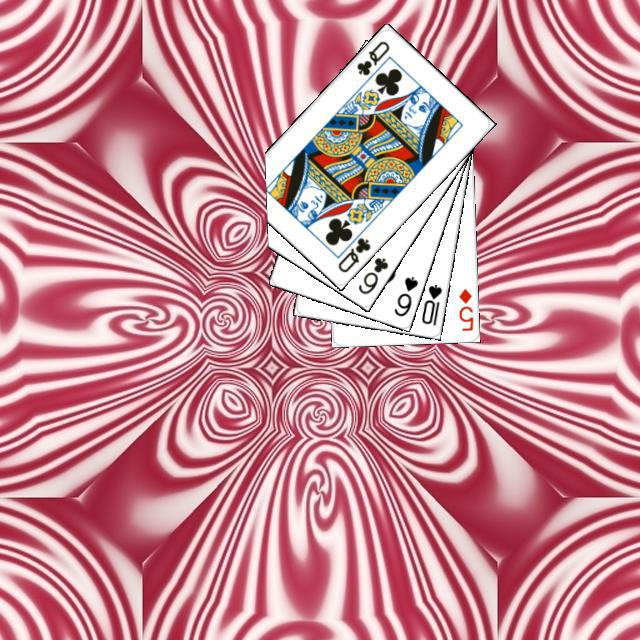10s: (417, 279, 444, 327)
5d: (454, 284, 475, 333)
6c: (353, 252, 390, 296)
6s: (389, 271, 420, 318)
Qc: (330, 224, 372, 274), (351, 36, 391, 77)
